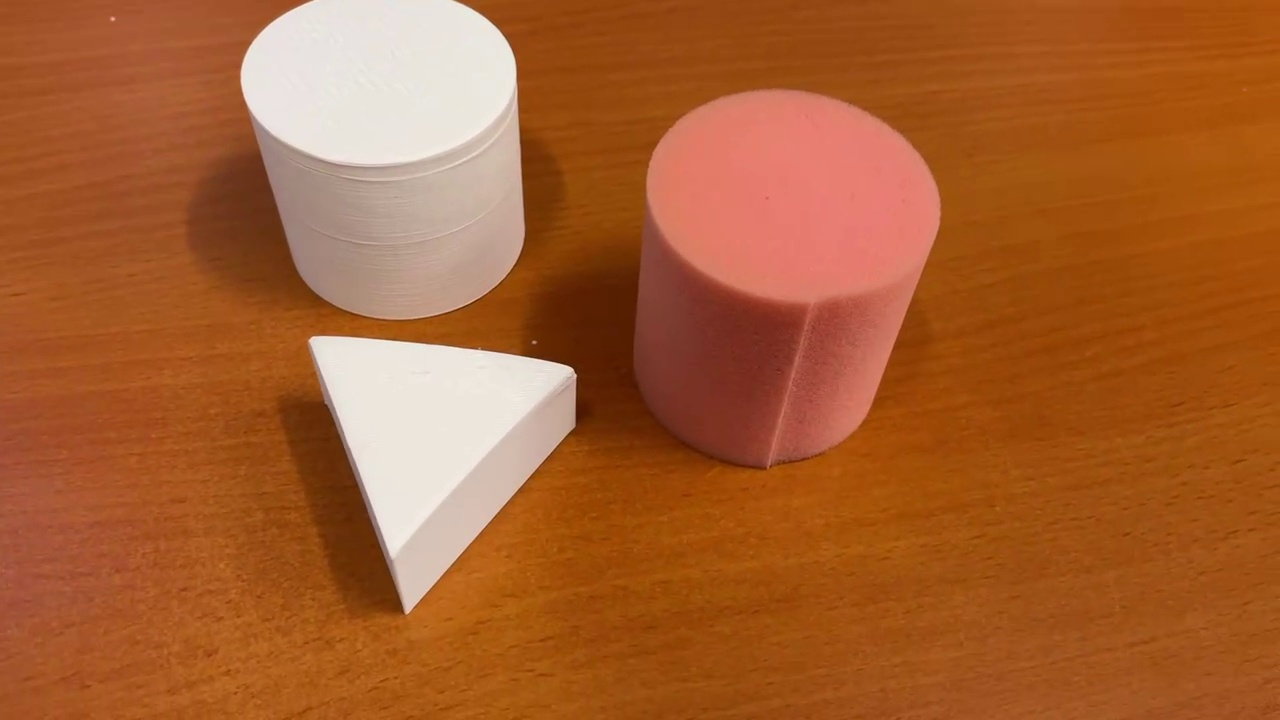Cylinder: (623, 81, 946, 472), (233, 1, 536, 325)
Triangle_short: (301, 330, 582, 626)
